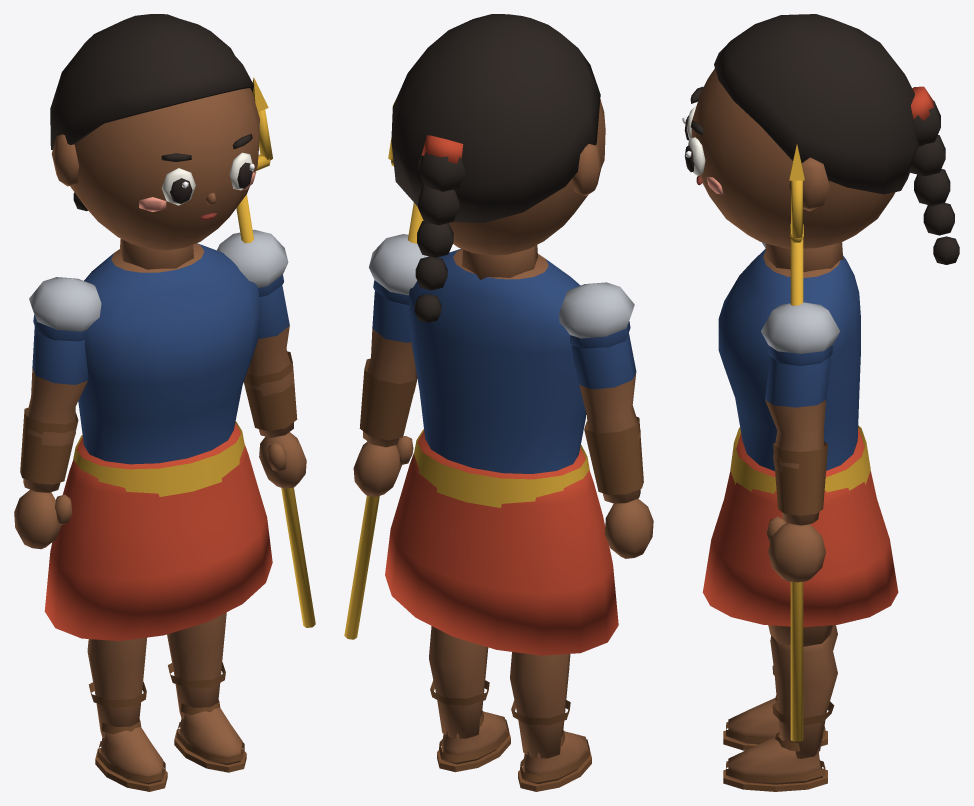
The model's file is gladiatorin.glb.
The picture shows the model from 3 angles, left to right: view 1: azimuth 30°, elevation 25°; view 2: azimuth 150°, elevation 25°; view 3: azimuth 270°, elevation 25°; orthographic projection. The views are drawn at different scales.
Visible parts, largest first — view 1: rumpf, huefte, kopf, haare, armL, armR, knieL, knieR, itemR, augeL, augeR; view 2: haare, rumpf, huefte, armL, armR, knieL, knieR, kopf, itemR; view 3: haare, huefte, rumpf, kopf, armR, knieR, itemR, knieL, beinR, augeR.
Boxes of the visible parts, left/top/right/bottom form: rumpf: left=73, top=243, right=261, bottom=496; huefte: left=44, top=423, right=272, bottom=640; kopf: left=51, top=88, right=259, bottom=269; haare: left=50, top=14, right=253, bottom=211; armL: left=14, top=277, right=101, bottom=549; armR: left=217, top=229, right=306, bottom=488; knieL: left=87, top=637, right=167, bottom=791; knieR: left=167, top=612, right=246, bottom=772; itemR: left=236, top=77, right=315, bottom=627; augeL: left=161, top=168, right=195, bottom=205; augeR: left=229, top=152, right=254, bottom=190; haare: left=391, top=14, right=600, bottom=322; rumpf: left=409, top=248, right=589, bottom=507; huefte: left=385, top=430, right=618, bottom=655; armL: left=559, top=282, right=653, bottom=558; armR: left=353, top=234, right=428, bottom=496; knieL: left=510, top=652, right=591, bottom=791; knieR: left=429, top=626, right=510, bottom=772; kopf: left=415, top=99, right=605, bottom=279; itemR: left=344, top=101, right=423, bottom=639; haare: left=714, top=14, right=959, bottom=264; huefte: left=702, top=428, right=898, bottom=627; rumpf: left=718, top=249, right=870, bottom=493; kopf: left=691, top=68, right=895, bottom=272; armR: left=761, top=302, right=840, bottom=582; knieR: left=723, top=635, right=837, bottom=791; itemR: left=789, top=144, right=804, bottom=741; knieL: left=723, top=625, right=837, bottom=750; beinR: left=768, top=625, right=832, bottom=646; augeR: left=684, top=137, right=705, bottom=175.
Bounding box in the file's own units: 0.9722 × 2.29 × 0.7797.
